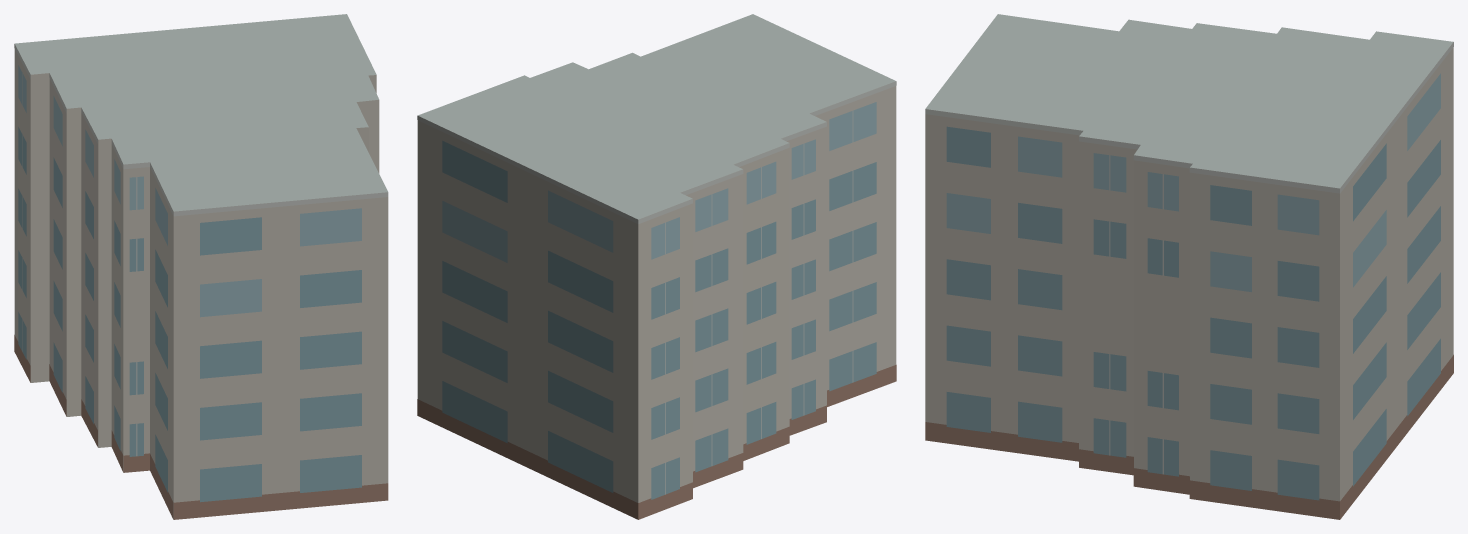
File: survey-upis-32759073.glb
3 renders of one model, left to right at view 1: azimuth 30°, elevation 25°; view 2: azimuth 150°, elevation 25°; view 3: azimuth 270°, elevation 25°, orthographic. The views are drawn at different scales.
Parts seen in each view (by area): view 1: survey-upis-32759073.tmp; view 2: survey-upis-32759073.tmp; view 3: survey-upis-32759073.tmp.
Part boxes in pixels (x1=…): survey-upis-32759073.tmp: x1=14, y1=14, x2=388, y2=519; survey-upis-32759073.tmp: x1=417, y1=14, x2=896, y2=519; survey-upis-32759073.tmp: x1=925, y1=14, x2=1453, y2=519.
Bounding box in the file's own units: 17.85 × 15.8 × 22.84.
